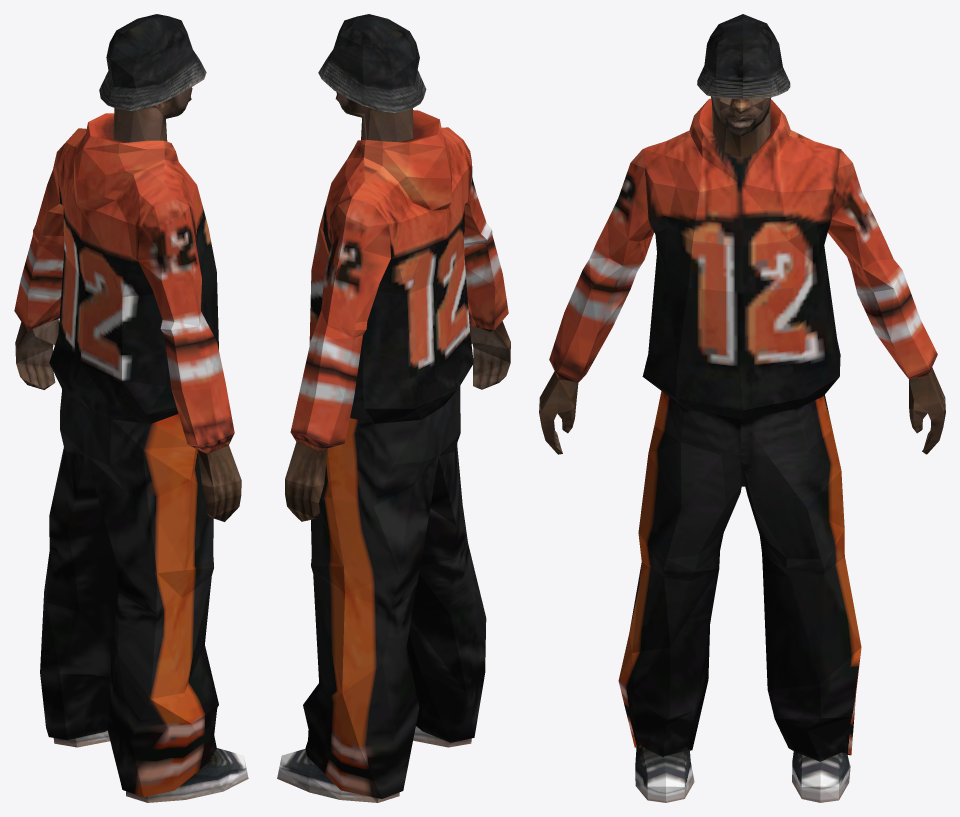
File: bmyst.obj
The picture shows the model from 3 angles, left to right: view 1: azimuth 30°, elevation 25°; view 2: azimuth 150°, elevation 25°; view 3: azimuth 270°, elevation 25°; orthographic projection. The views are drawn at different scales.
Parts seen in each view (by area): view 1: _Pelvis; view 2: _Pelvis; view 3: _Pelvis.
Boxes of the visible parts, <box> form: _Pelvis: <box>14,14,248,802</box>; _Pelvis: <box>277,14,510,802</box>; _Pelvis: <box>539,14,945,802</box>.
Size of the model in its own units: 0.3779 by 1.91 by 0.9308.
Materials: 1 (1 with a texture image).
